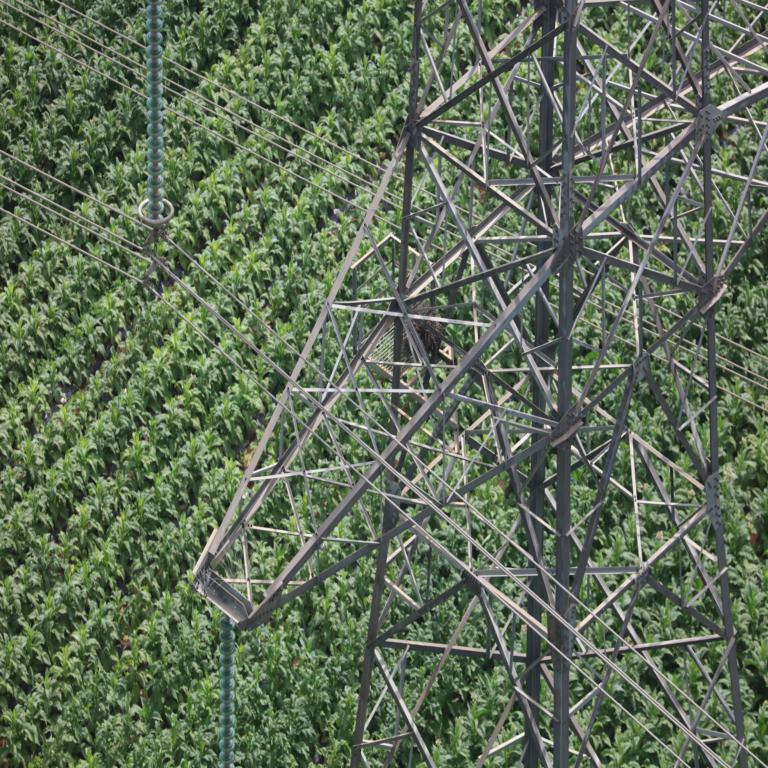nest: (411, 317, 447, 360)
